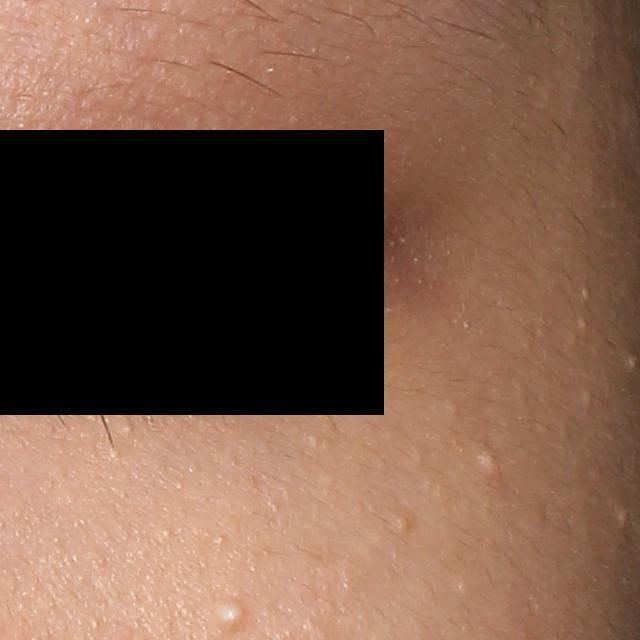other: (219, 600, 250, 633), (479, 452, 498, 474), (575, 315, 588, 334), (627, 352, 638, 374), (121, 421, 138, 433), (579, 284, 589, 303), (583, 389, 591, 410)
